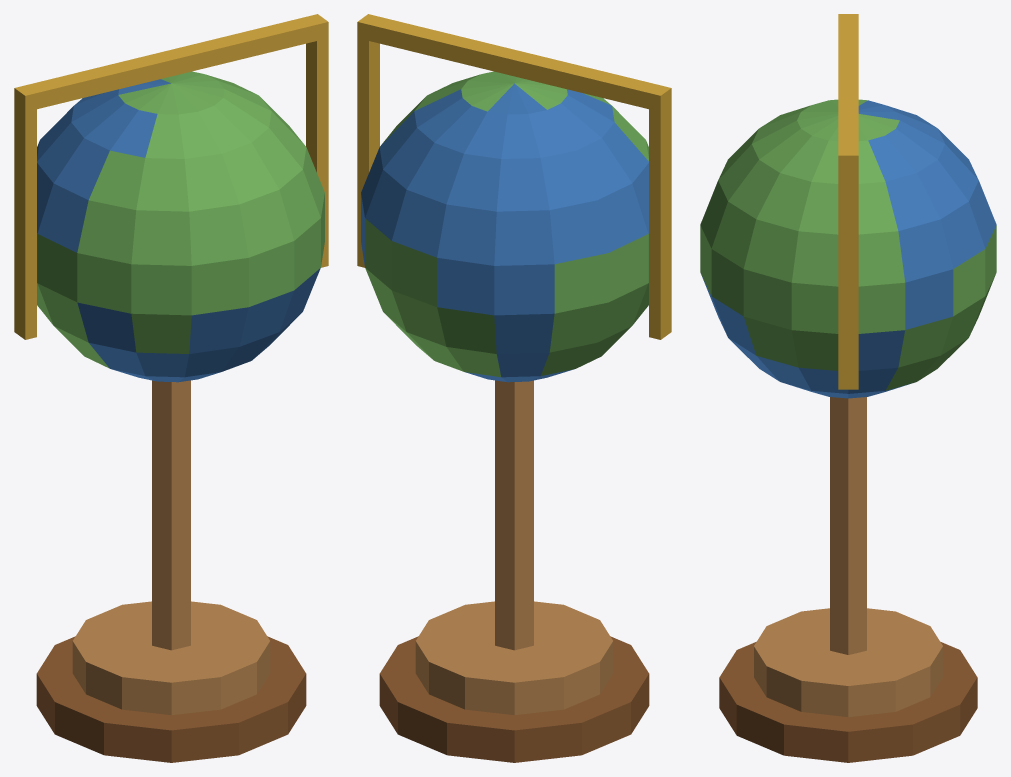
Rendered from globe.glb.
3 views of the same model, side by side, from view 1: azimuth 30°, elevation 25°; view 2: azimuth 150°, elevation 25°; view 3: azimuth 270°, elevation 25° (orthographic). The views are drawn at different scales.
Visible parts, largest first — view 1: globe; view 2: globe; view 3: globe.
Boxes of the visible parts, x1,y1,x2,y2 form: globe: (14, 14, 328, 762); globe: (357, 14, 671, 762); globe: (700, 14, 996, 762).
Bounding box in the file's own units: 0.39 × 0.8 × 0.3447.
Materials: 1 (1 with a texture image).
